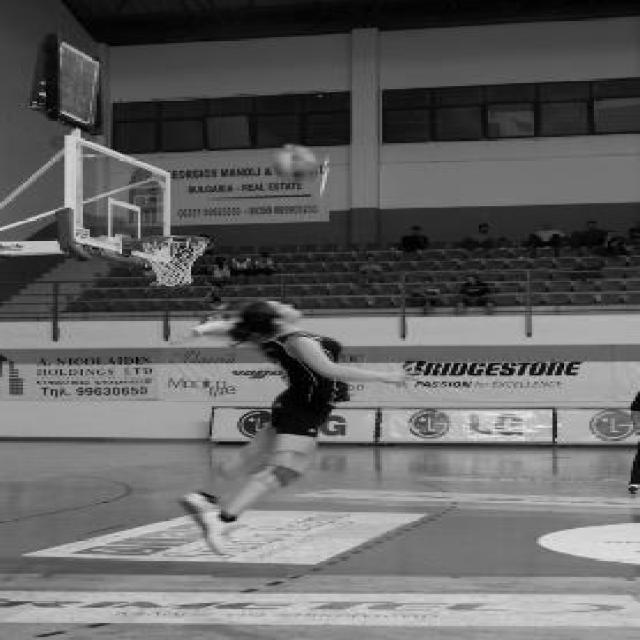volleyball: (273, 144, 317, 182)
